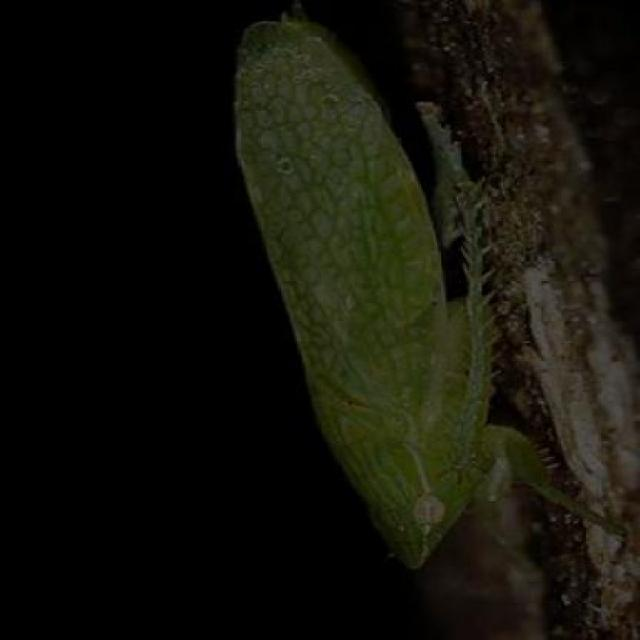green-leafhopper: (227, 12, 578, 552)
